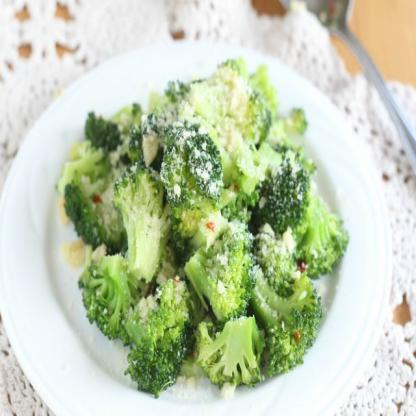broccoli: (52, 55, 348, 398)
